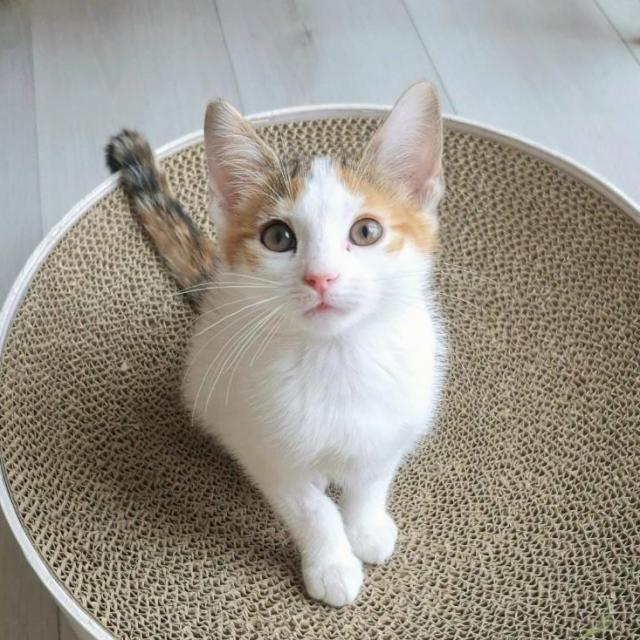calico_cat: (194, 74, 454, 356)
